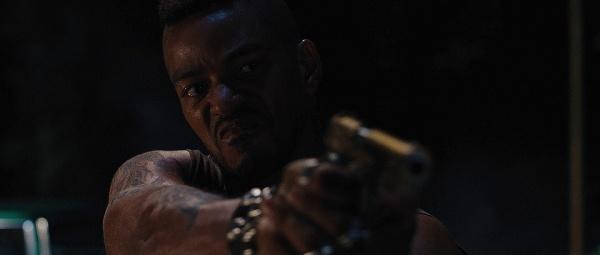Gun: (323, 113, 433, 200)
